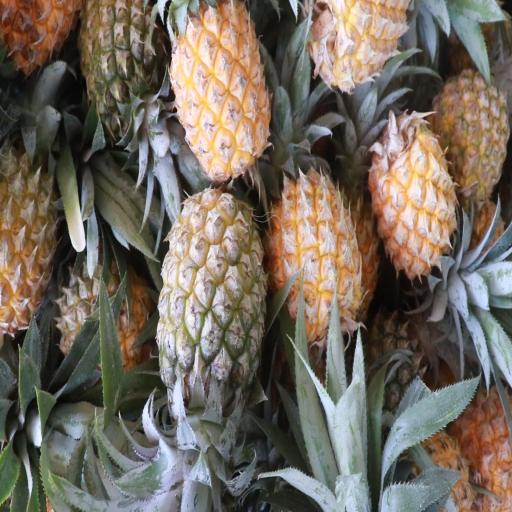------------------------------: (158, 186, 263, 406), (62, 255, 152, 386), (435, 72, 512, 207)
Pineapple - v8 v1: (175, 3, 272, 178), (272, 168, 359, 336), (370, 112, 455, 282), (0, 137, 64, 321)
